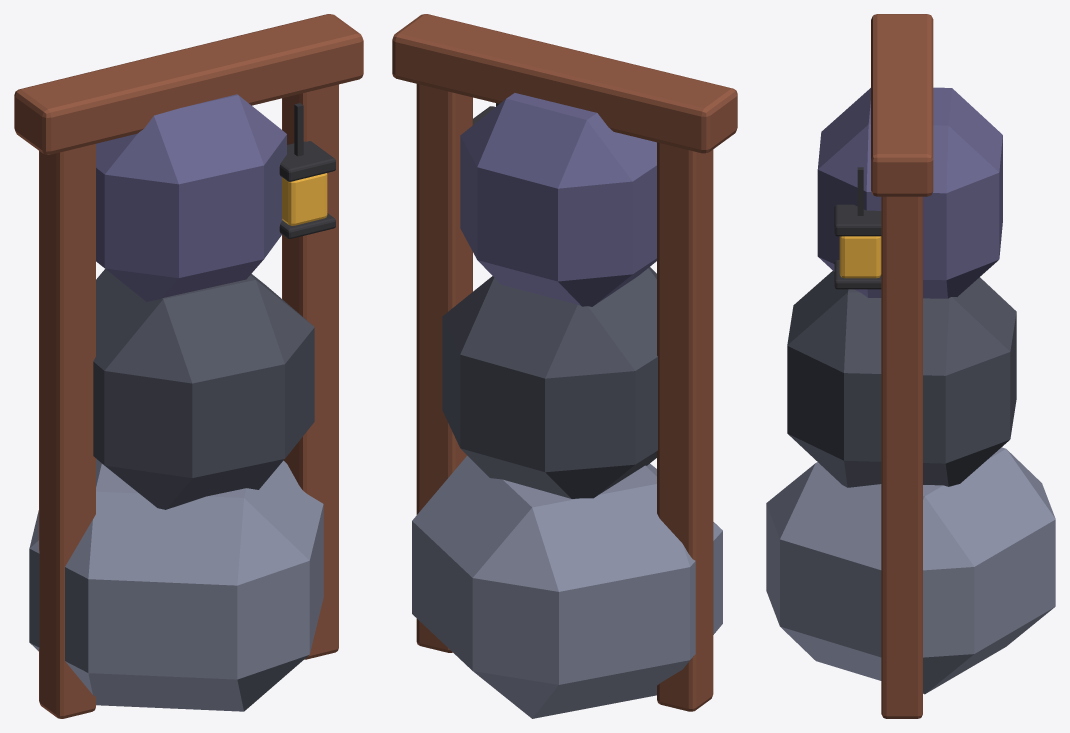
Rendered from mine-pillar.glb.
The picture shows the model from 3 angles, left to right: view 1: azimuth 30°, elevation 25°; view 2: azimuth 150°, elevation 25°; view 3: azimuth 270°, elevation 25°; orthographic projection. The views are drawn at different scales.
Parts seen in each view (by area): view 1: mine-pillar, glow-mine-pillar; view 2: mine-pillar; view 3: mine-pillar, glow-mine-pillar.
Boxes of the visible parts, x1,y1,x2,y2 form: mine-pillar: [14, 14, 363, 718]; glow-mine-pillar: [282, 173, 327, 225]; mine-pillar: [392, 14, 737, 718]; mine-pillar: [766, 14, 1055, 718]; glow-mine-pillar: [839, 236, 881, 278].
Size of the model in its own units: 0.66 by 1.22 by 0.5566.
1 material, 1 textured.
